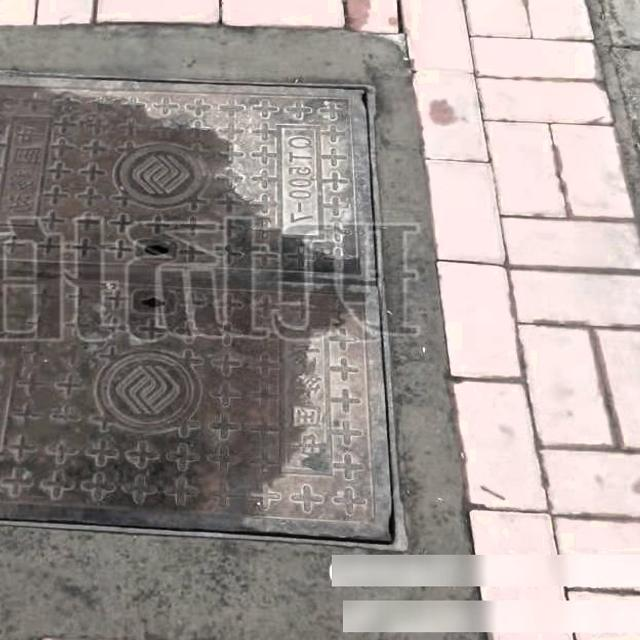good: (0, 65, 408, 545)
